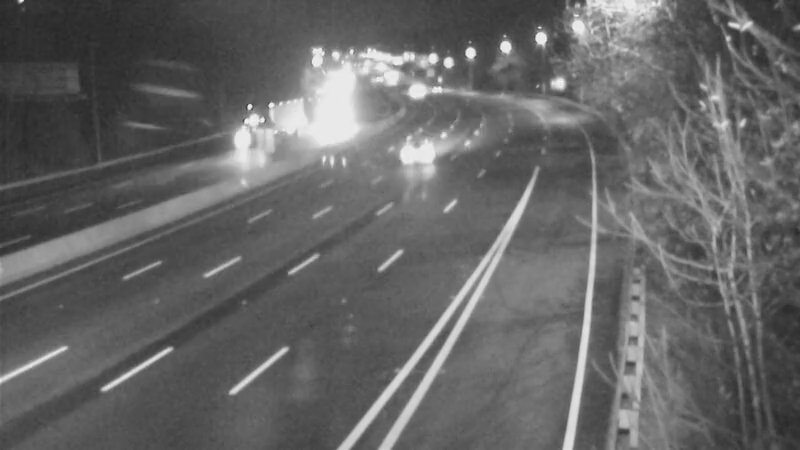vehicle: (413, 65, 463, 115), (390, 68, 440, 118), (392, 122, 442, 172), (219, 110, 269, 160), (300, 102, 350, 152)
